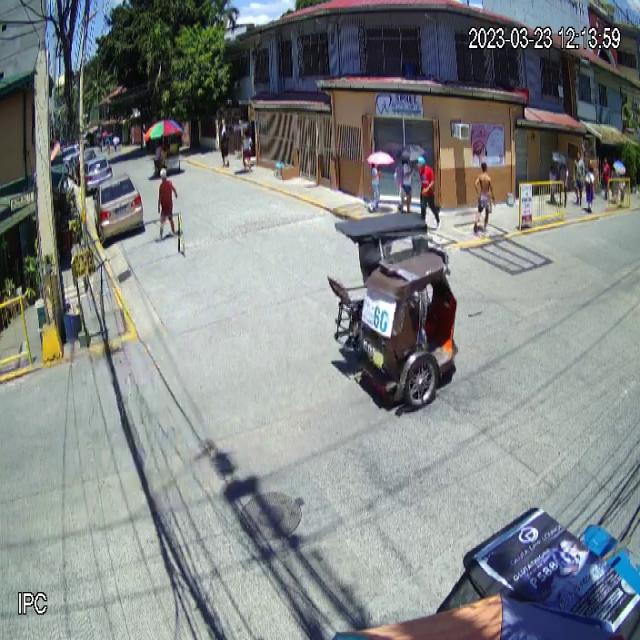Tricycle: (328, 215, 458, 408)
